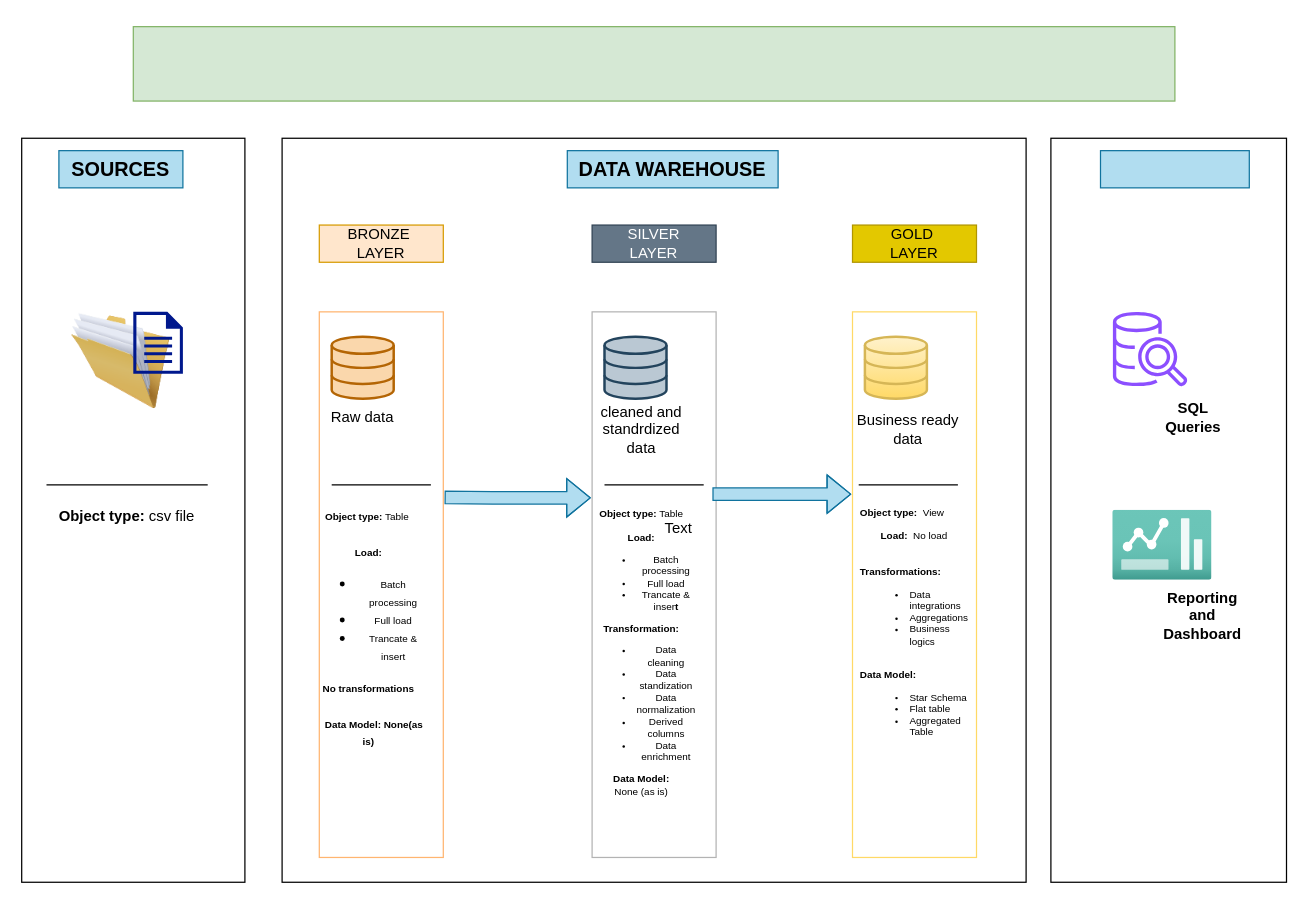
Image size: 1308x904. Some labels were removed from this diagram. Here are the shapes that lost their labels. From the top down, the centre of each, then its label:
the point at 653,63: High Level Architecture
the point at 1174,168: CONSUME
